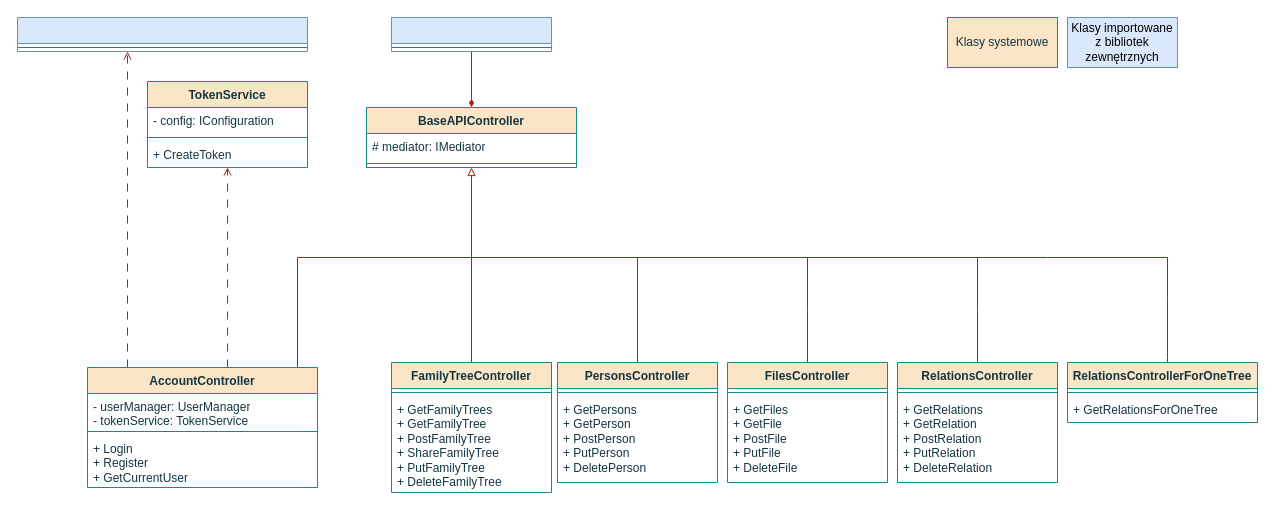
This 1275x513 diagram has some shape labels left out. Each missing label, with the centre of its shape:
MediatR.IMediator: pixel 471 34
Microsoft.AspNetCore.Identity.UserManager: pixel 162 34
